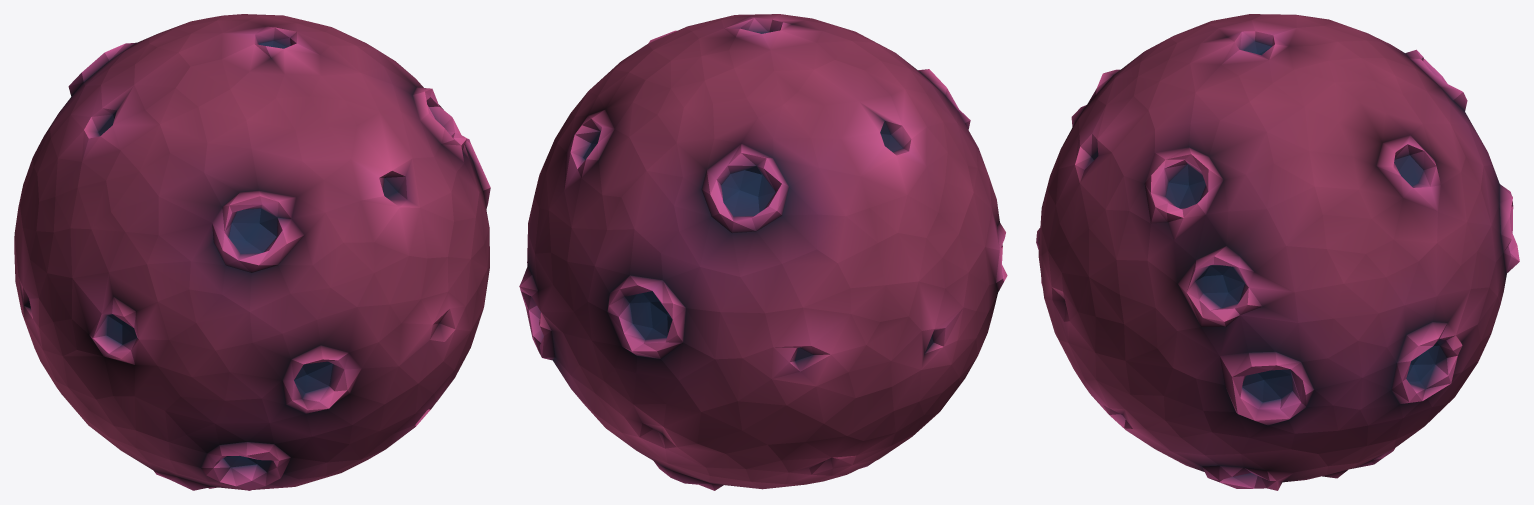
The model's file is moon29.fbx.
The picture shows the model from 3 angles, left to right: view 1: azimuth 30°, elevation 25°; view 2: azimuth 150°, elevation 25°; view 3: azimuth 270°, elevation 25°; orthographic projection.
Parts seen in each view (by area): view 1: attribblur1; view 2: attribblur1; view 3: attribblur1.
Boxes of the visible parts, x1=… form: attribblur1: x1=14, y1=14, x2=490, y2=490; attribblur1: x1=519, y1=14, x2=1007, y2=490; attribblur1: x1=1036, y1=14, x2=1519, y2=490.
Size of the model in its own units: 1.04 by 1.02 by 1.05.
